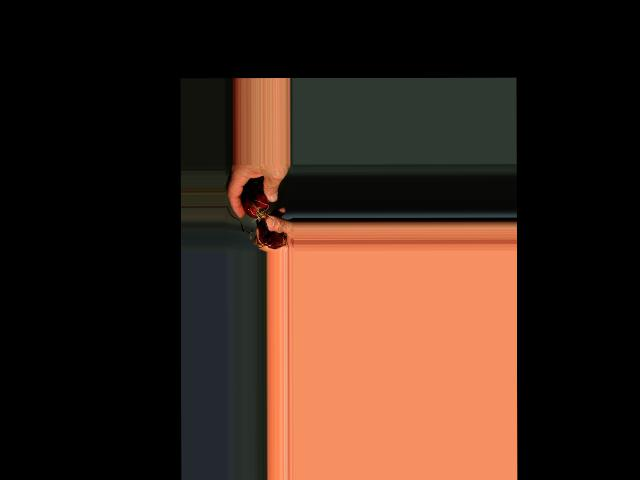onion: (242, 190, 270, 218)
